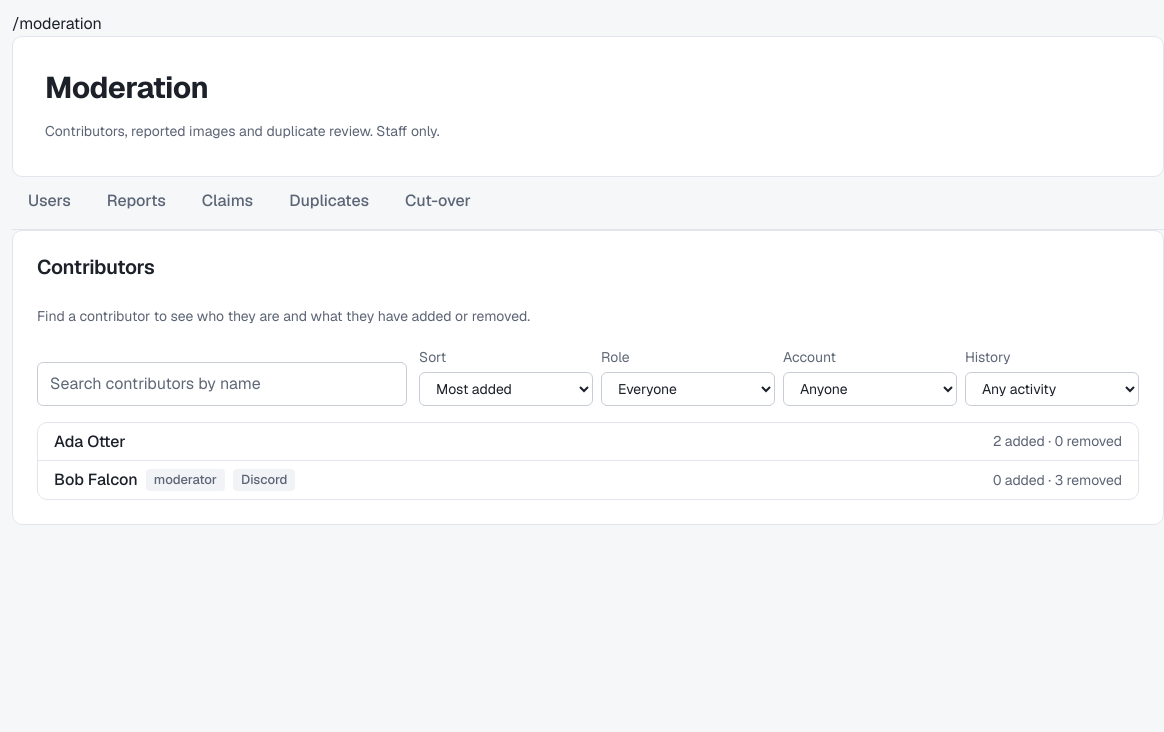
the URL is the source of truth › puts the selected contributor in the URL, and renders them from it
Click the button "Ada Otter 2 added · 0 removed" at (90, 441), box [38,422,1138,460]
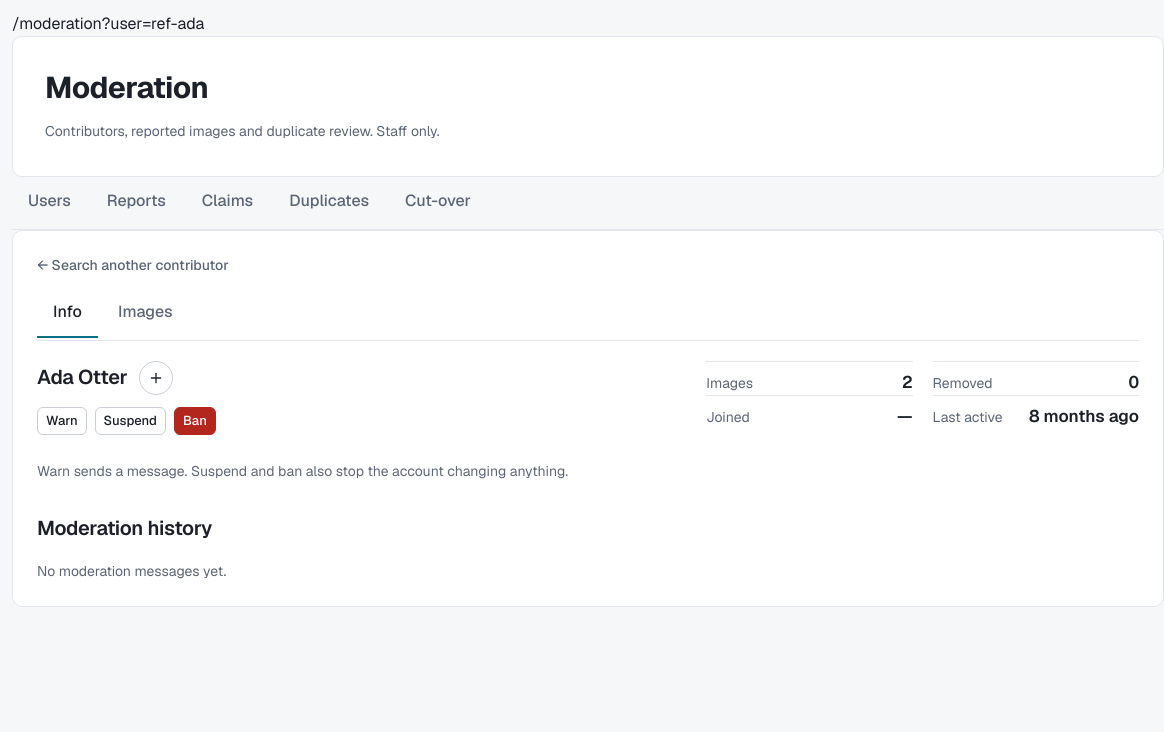
Expected: the text with test id "location" shows "user=ref-ada", [12,13,204,34]
Expected: the heading "Ada Otter" is shown, [37,365,127,390]
